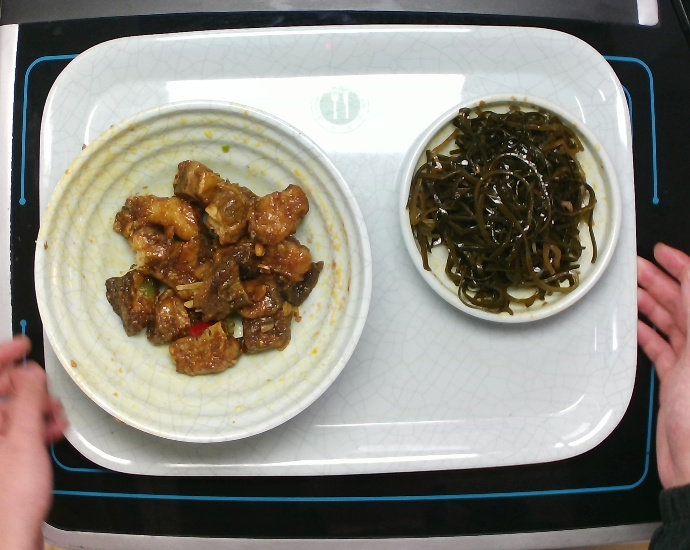JYsf-Da_Tang_Wan: (32, 98, 376, 445)
JYsf-Xiao_Yuan_Pan: (396, 90, 625, 326)
